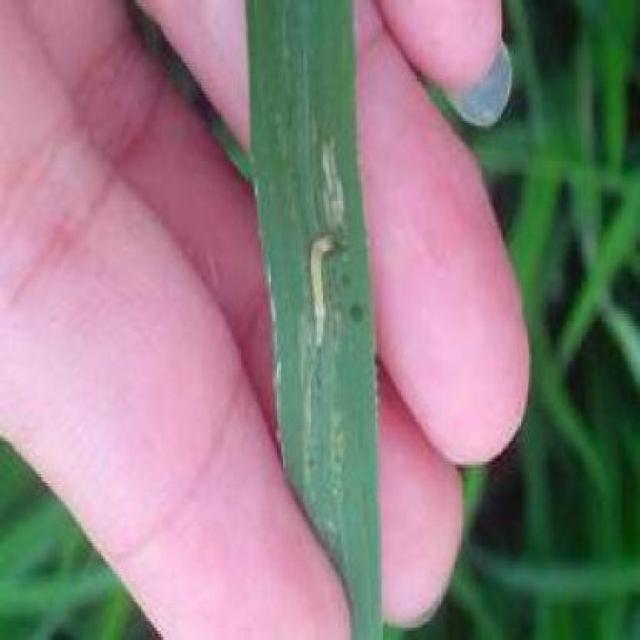leaf-folder: (290, 212, 347, 354)
